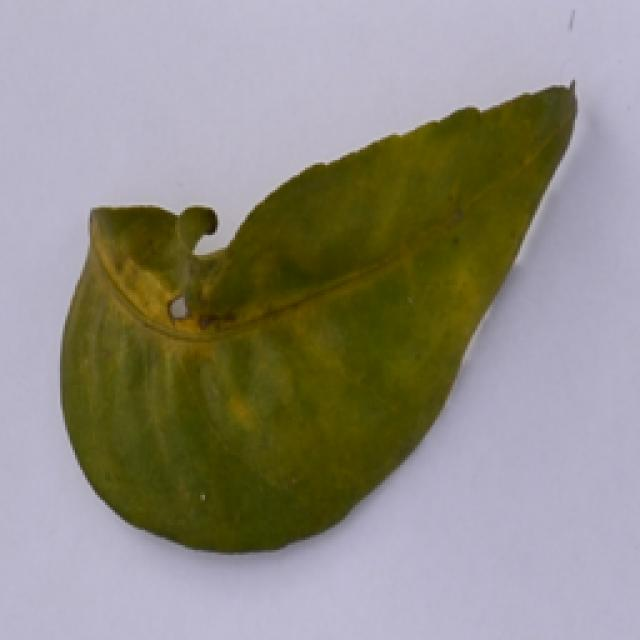greening: (37, 70, 584, 564)
